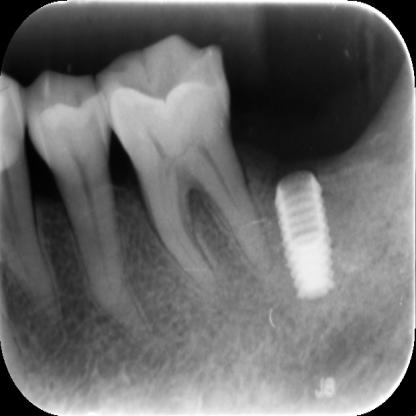Bicon: (271, 164, 338, 302)
